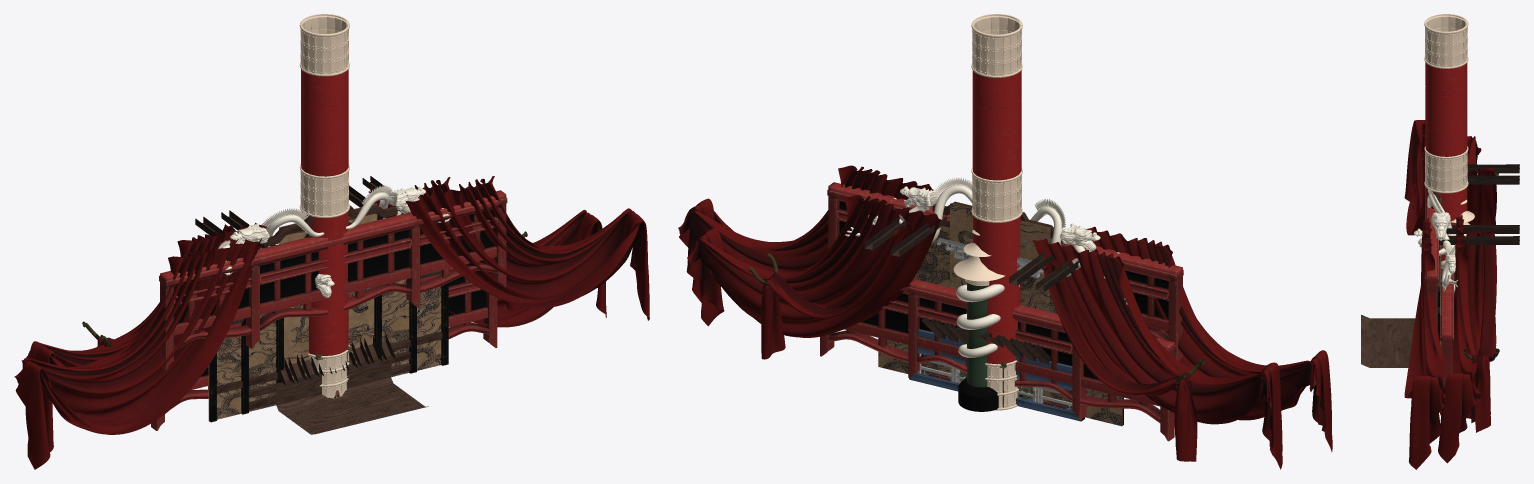
Rendered from fugu.glb.
3 views of the same model, side by side, from view 1: azimuth 30°, elevation 25°; view 2: azimuth 150°, elevation 25°; view 3: azimuth 270°, elevation 25° (orthographic). The views are drawn at different scales.
Parts seen in each view (by area): view 1: curtains.Shape.003, ceiling.Shape.021, backart.Shape, Table1.Shape, swordL.Shape, main.Shape.5147, dragoncolumns.Shape.001, Table09.Shape; view 2: curtains.Shape.003, Table1.Shape, ceiling.Shape.021, backart.Shape, dragoncolumns.Shape.001, swordL.Shape, curtains.Shape, main.Shape.6903, main.Shape.1720; view 3: curtains.Shape.003, curtains.Shape, swordL.Shape, dragoncolumns.Shape.001, Table1.Shape, main.Shape.5147, backart.Shape, ceiling.Shape.021, Table09.Shape.
Boxes of the visible parts, x1,y1,x2,y2 form: curtains.Shape.003: (14,176,649,469); ceiling.Shape.021: (169,195,498,390); backart.Shape: (208,185,450,420); Table1.Shape: (151,176,507,430); swordL.Shape: (301,69,348,355); main.Shape.5147: (82,231,527,434); dragoncolumns.Shape.001: (299,14,349,398); Table09.Shape: (209,204,450,422); curtains.Shape.003: (678,165,1332,469); Table1.Shape: (820,182,1183,441); ceiling.Shape.021: (835,184,1173,406); backart.Shape: (845,177,1127,426); dragoncolumns.Shape.001: (953,14,1022,411); swordL.Shape: (972,70,1022,397); curtains.Shape: (761,224,1197,461); main.Shape.6903: (909,329,1084,421); main.Shape.1720: (918,238,1072,409); curtains.Shape.003: (1404,120,1481,469); curtains.Shape: (1464,167,1496,432); swordL.Shape: (1425,62,1467,296); dragoncolumns.Shape.001: (1424,14,1474,294); Table1.Shape: (1425,164,1519,388); main.Shape.5147: (1361,173,1499,367); backart.Shape: (1413,159,1457,347); ceiling.Shape.021: (1425,186,1453,333); Table09.Shape: (1435,192,1440,341).
Bounding box in the file's own units: 14.81 × 8.31 × 3.71.
Materials: 21 (14 with a texture image).
